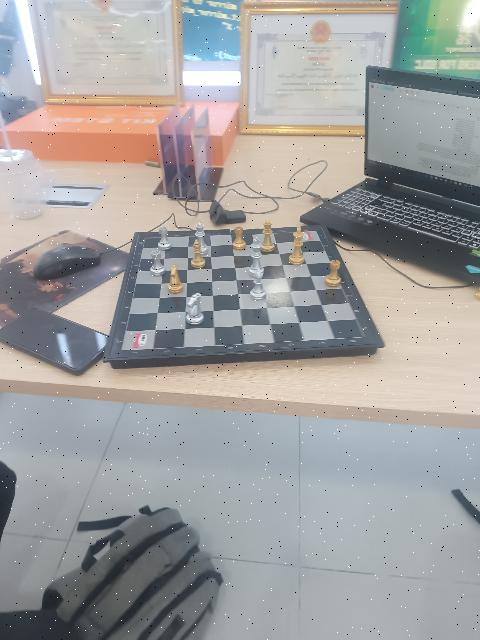black_bishop: (190, 239, 205, 269)
black_king: (289, 226, 305, 265)
black_knight: (166, 263, 183, 294)
black_queen: (261, 219, 275, 253)
black_rook: (325, 259, 341, 287), (230, 226, 246, 250)
white_bishop: (249, 269, 265, 300)
white_king: (250, 237, 262, 270)
white_knight: (184, 293, 203, 325)
white_queen: (195, 221, 205, 239)
white_rook: (150, 250, 165, 276), (158, 226, 170, 250)
